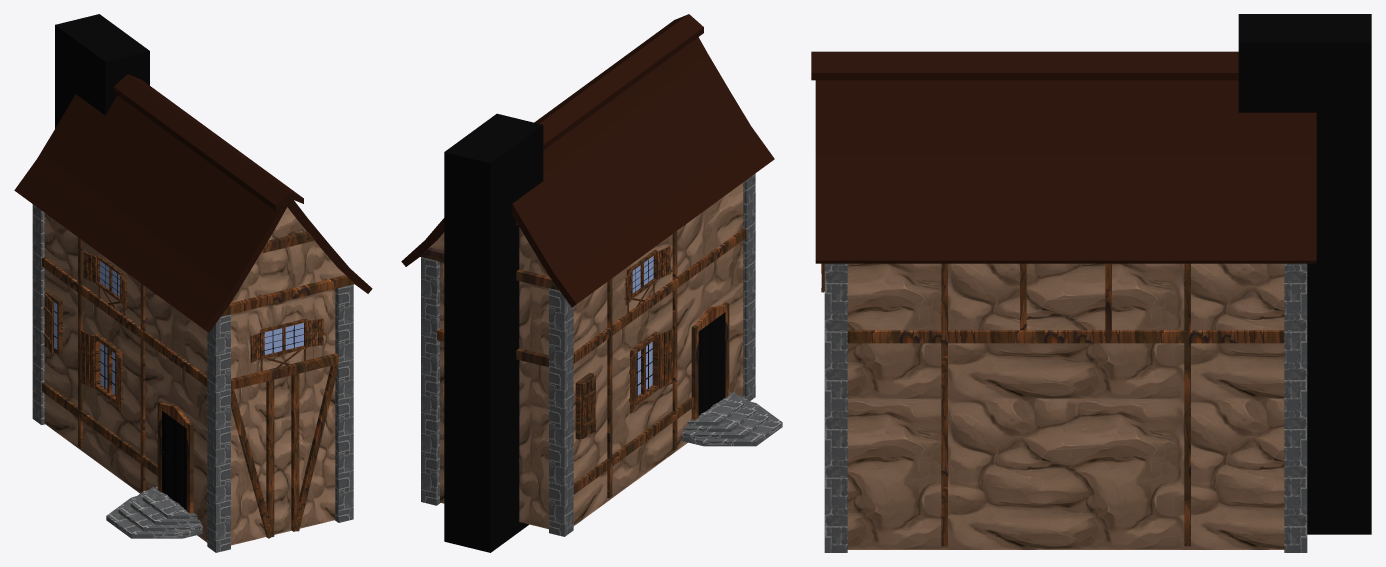
File: zabor.fbx
3 renders of one model, left to right at view 1: azimuth 30°, elevation 25°; view 2: azimuth 150°, elevation 25°; view 3: azimuth 270°, elevation 25°, orthographic. The views are drawn at different scales.
Visible parts, largest first — view 1: Cube.017; view 2: Cube.017; view 3: Cube.017.
Boxes of the visible parts, x1,y1,x2,y2 form: Cube.017: [14, 14, 372, 552]; Cube.017: [401, 14, 782, 552]; Cube.017: [811, 14, 1371, 552].
Size of the model in its own units: 59.43 by 102 by 105.
